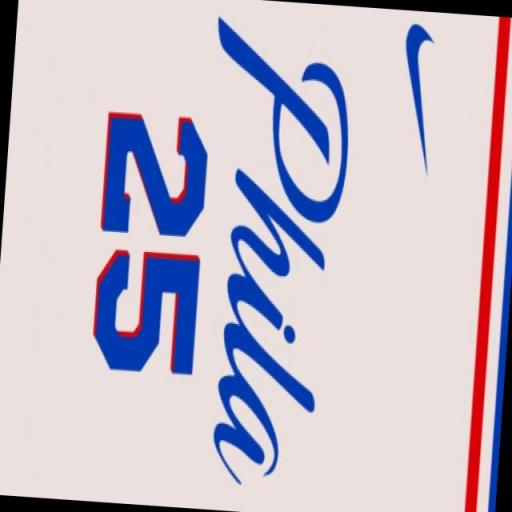Nike: (386, 11, 442, 199)
